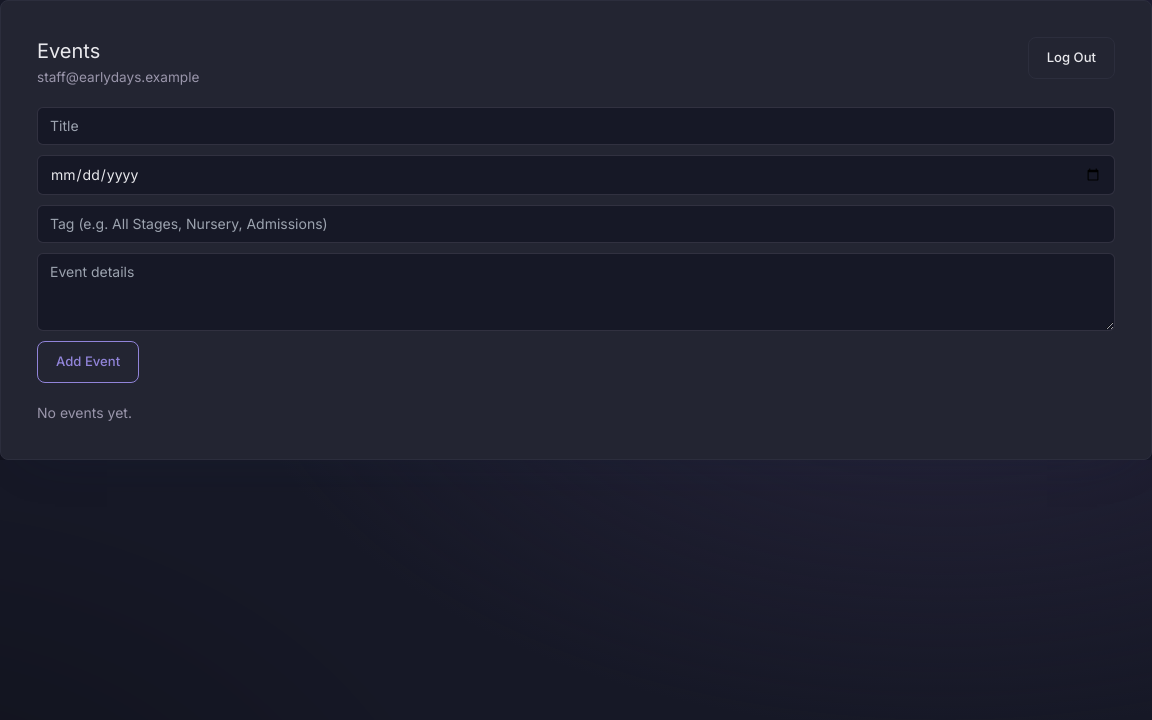
it: AdminEventsPanel › creates an event via the form
Expected: the text "No events yet." is shown, [37, 404, 132, 421]
Type "Term Starts" into the field with placeholder "Title" at point(576, 126), box [37, 107, 1115, 145]
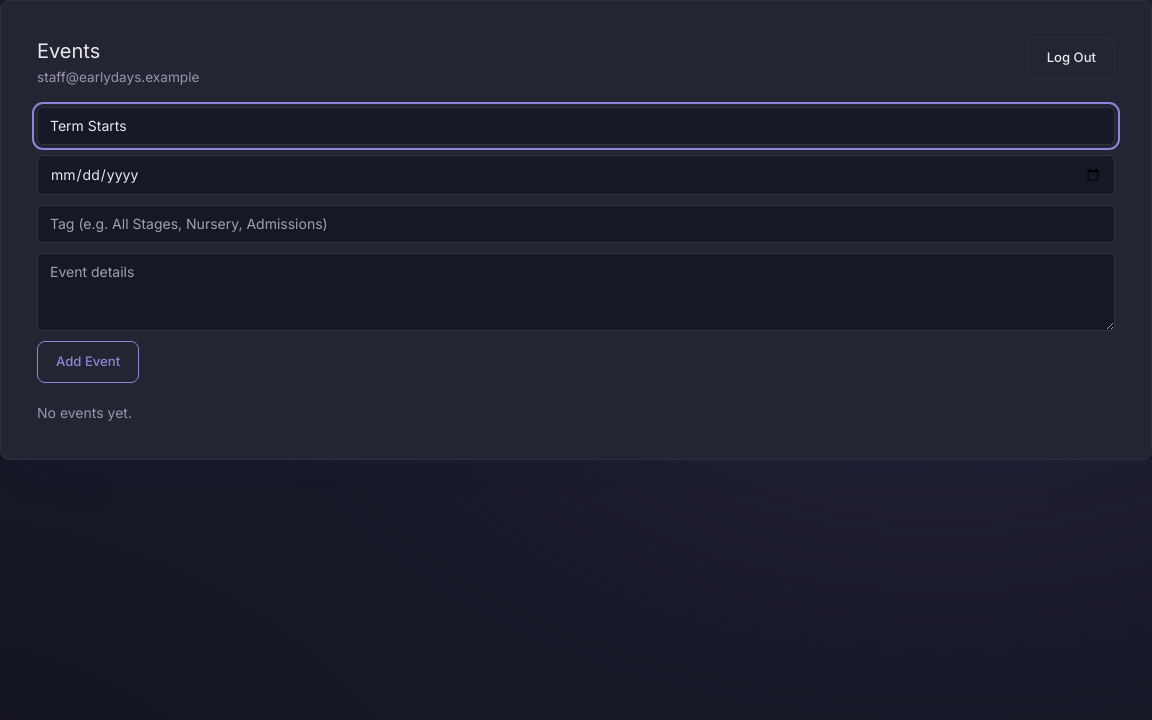
Type "All Stages" into the field with placeholder "Tag (e.g. All Stages, Nursery, Admissions)" at point(576, 224), box [37, 205, 1115, 243]
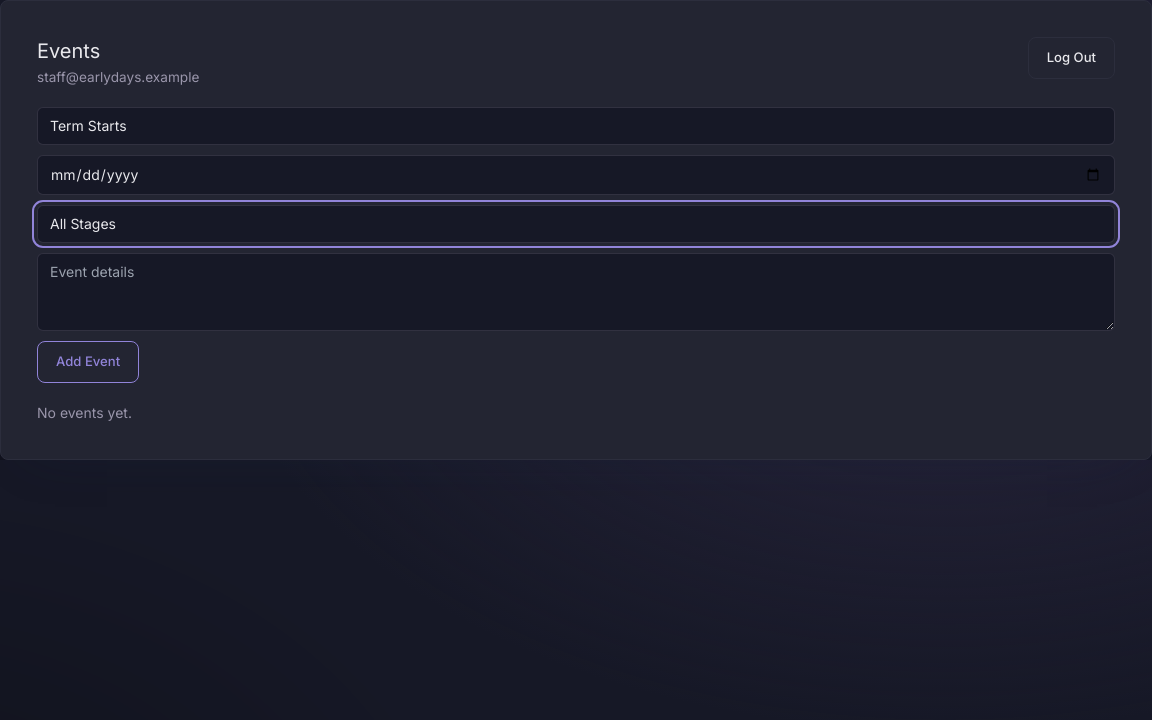
Type "First day of the new term." into the text box with placeholder "Event details" at point(576, 292), box [37, 253, 1115, 331]
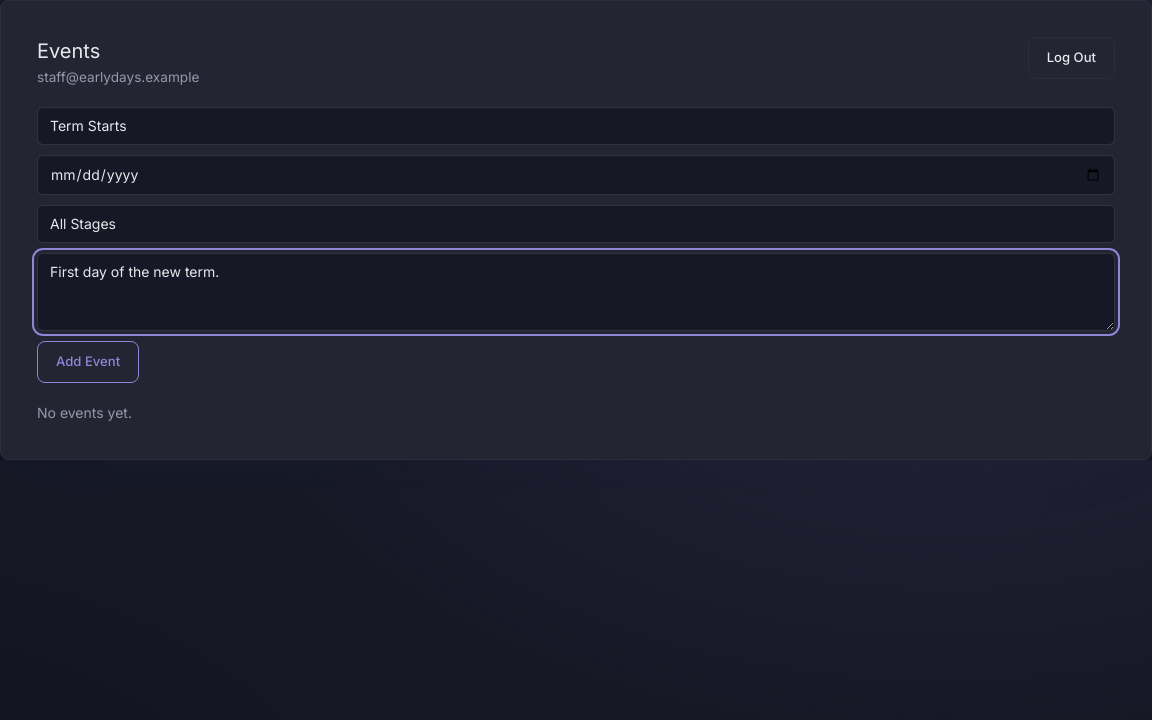
Type "2026-09-01" into the date field at point(576, 175), box [37, 155, 1115, 195]
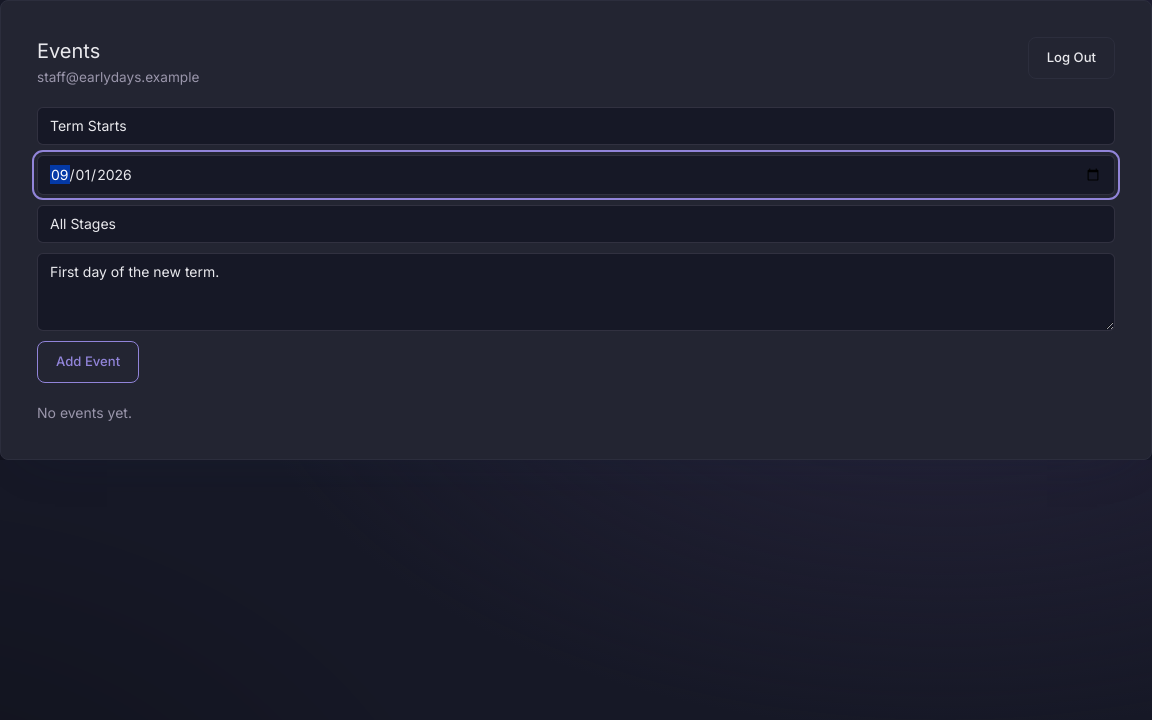
Click the button "Add Event" at point(88, 362), box [37, 341, 139, 383]
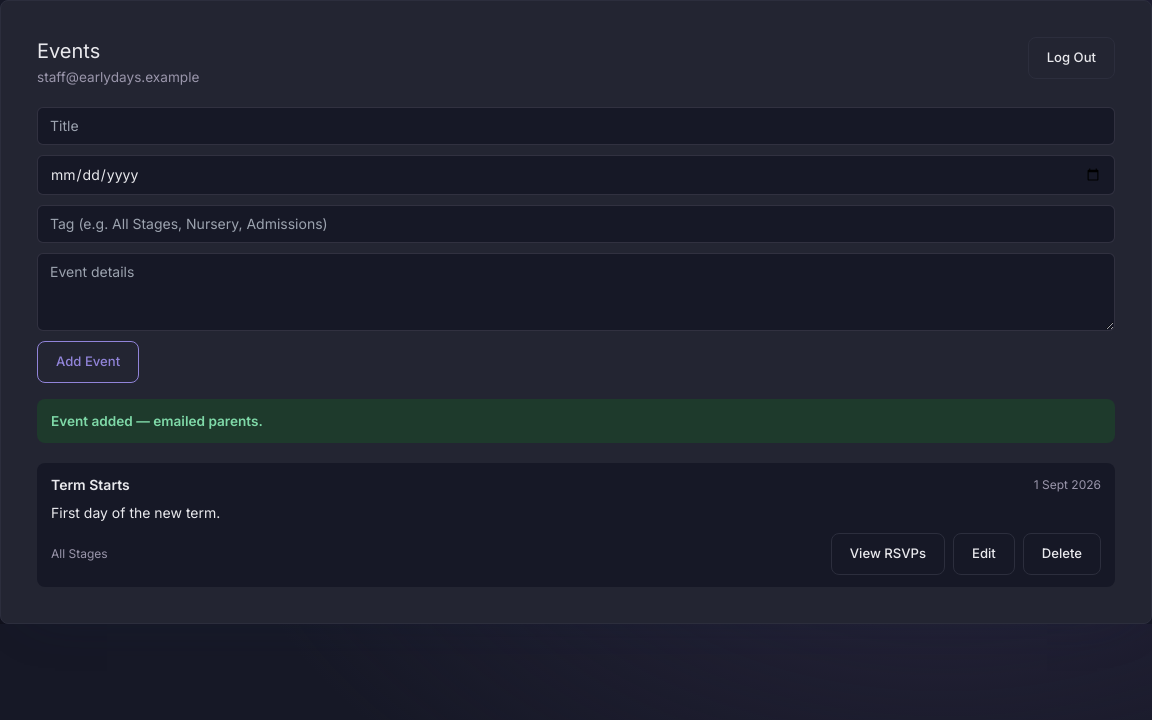
Expected: the text "Term Starts" is shown, [51, 476, 130, 496]
